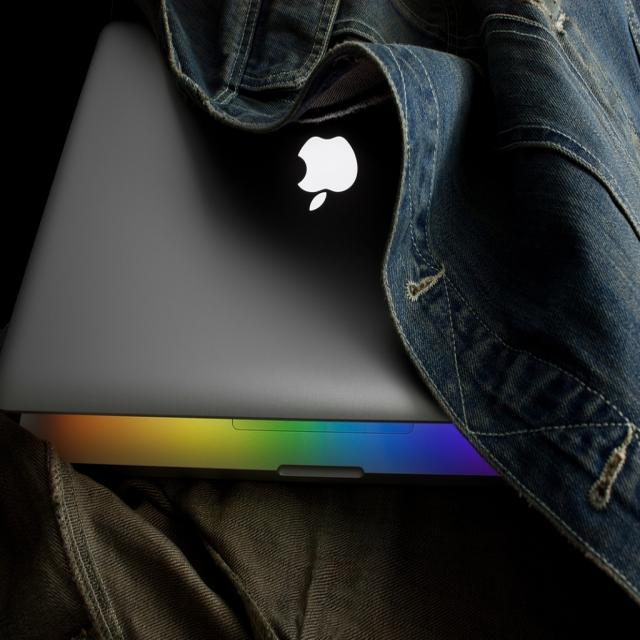apple: (293, 132, 362, 218)
